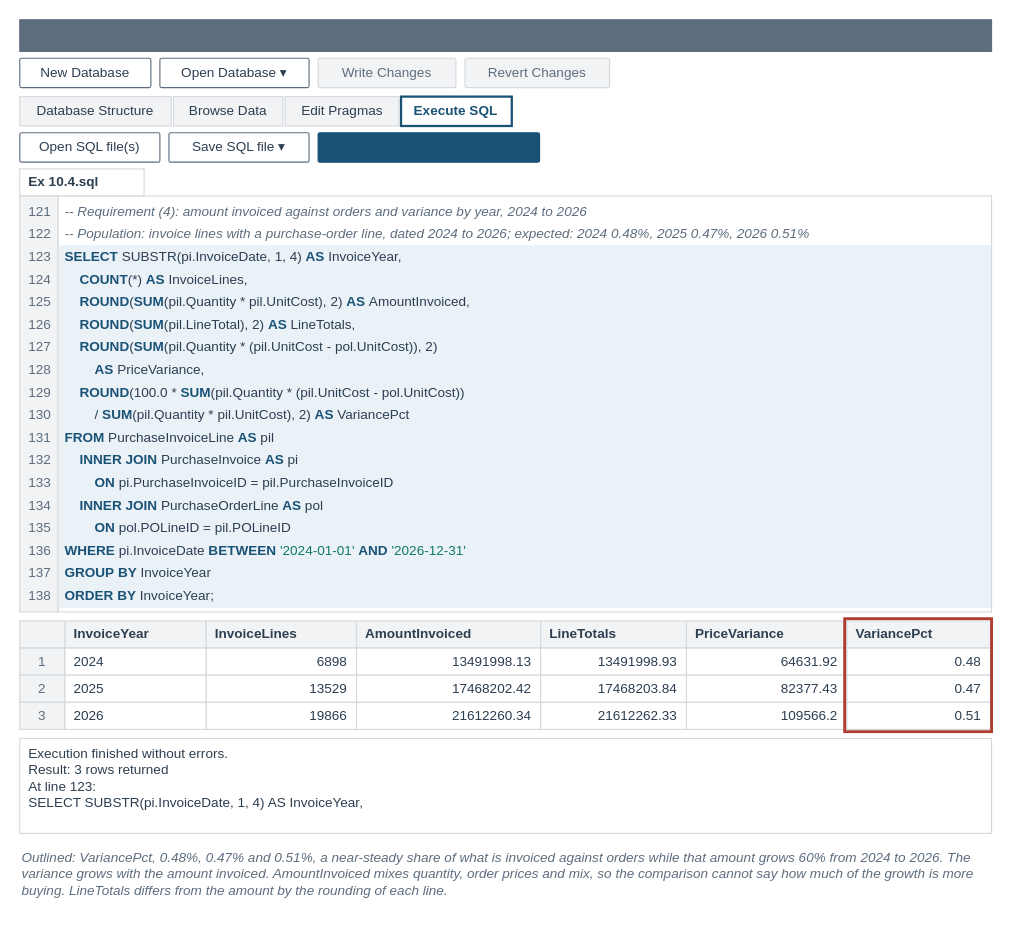
Image size: 1012x929. Some labels were removed from this diagram. Here are the shapes that lost their labels. From the top down, the centre of each, then its label:
At pixel 505 35: "DB Browser for SQLite - C:\Users\you\Documents\CharlesRiver_Work.sqlite".
At pixel 428 147: "▶ Execute all/selected SQL".
